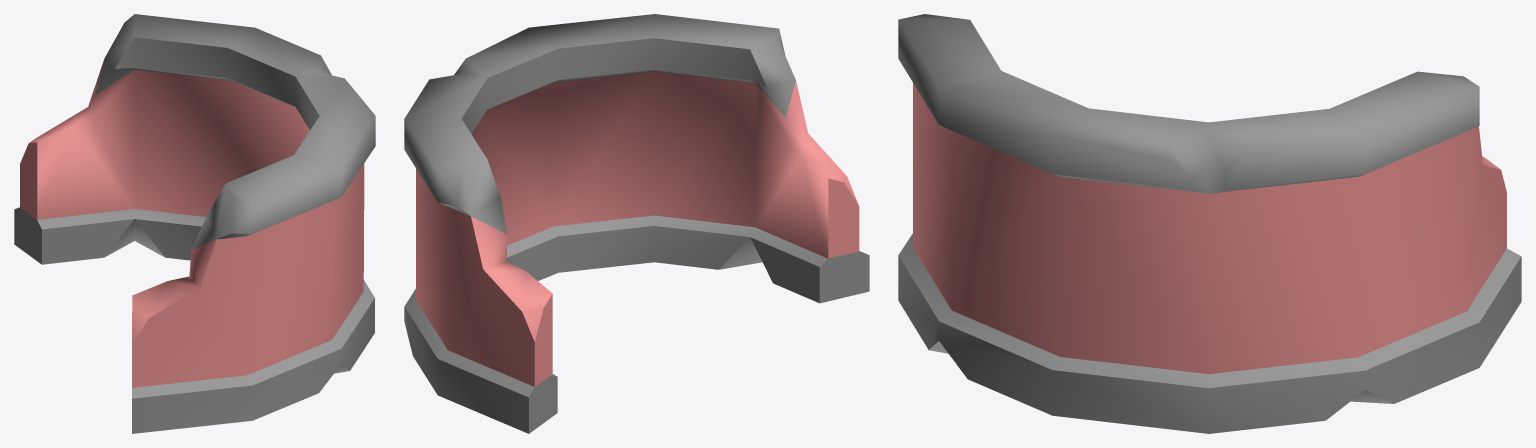
Rendered from world_obj04.gltf.
3 renders of one model, left to right at view 1: azimuth 30°, elevation 25°; view 2: azimuth 150°, elevation 25°; view 3: azimuth 270°, elevation 25°, orthographic. The views are drawn at different scales.
Parts seen in each view (by area): view 1: world_obj04; view 2: world_obj04; view 3: world_obj04.
Boxes of the visible parts, bbox=[...] form: world_obj04: bbox=[14, 14, 375, 433]; world_obj04: bbox=[404, 14, 869, 433]; world_obj04: bbox=[898, 14, 1521, 433].
Size of the model in its own units: 2.54 by 1.67 by 3.36.
